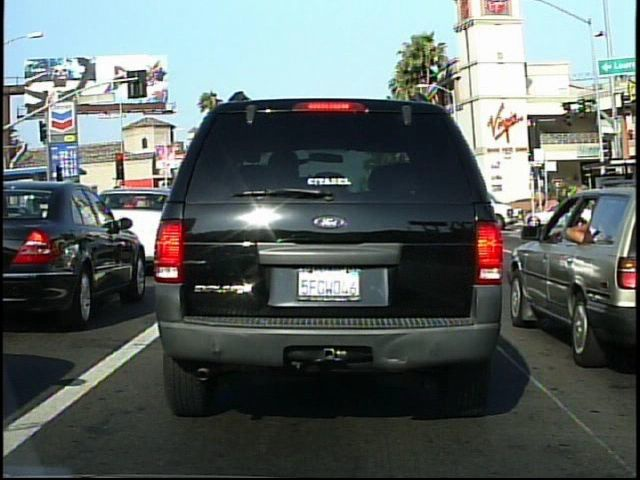person: (588, 183, 616, 240), (554, 181, 576, 237)
